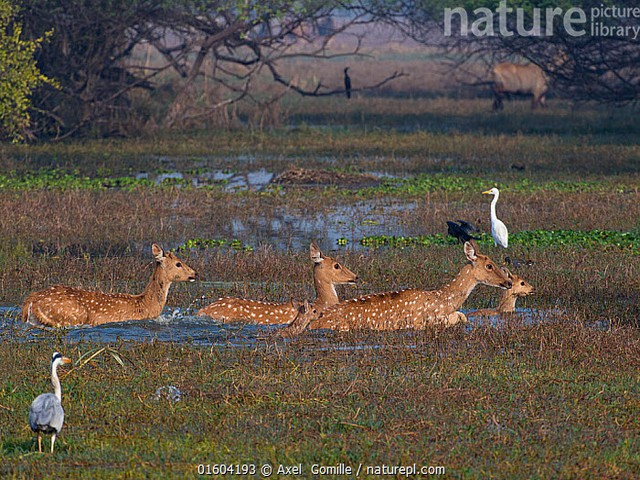deer: (19, 237, 200, 329), (369, 244, 513, 326), (216, 238, 358, 298), (268, 296, 325, 340), (508, 267, 537, 309)
